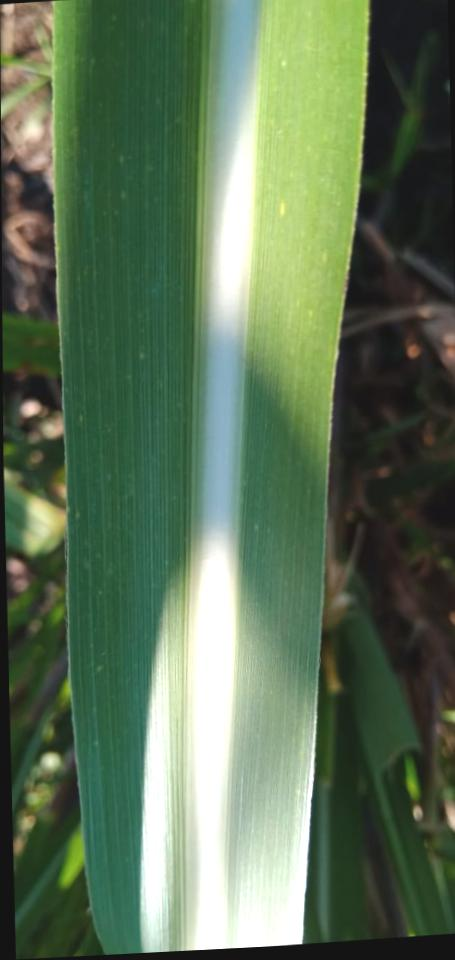Healthy: (54, 0, 368, 955)
